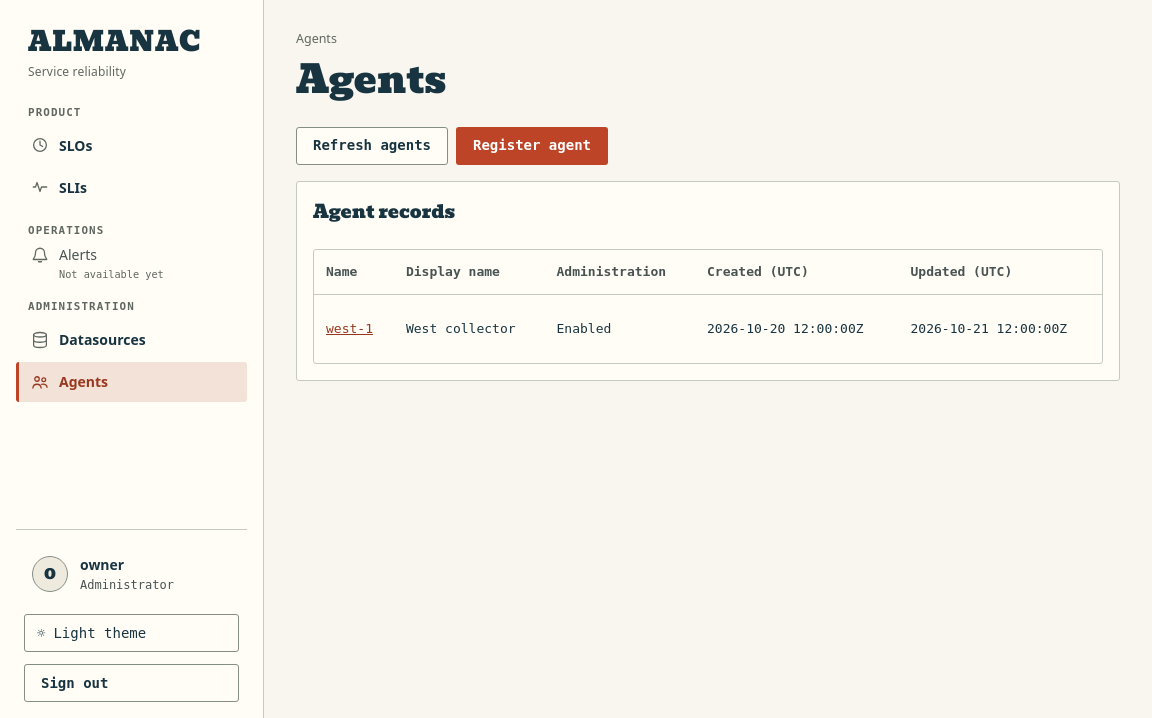
it: agent administration screen › never enables deletion when datasource checks fail
The width and height of the screenshot is (1152, 718).
Click the button "west-1" at coordinates (350, 329), box [326, 307, 373, 351]
(page scrolled)
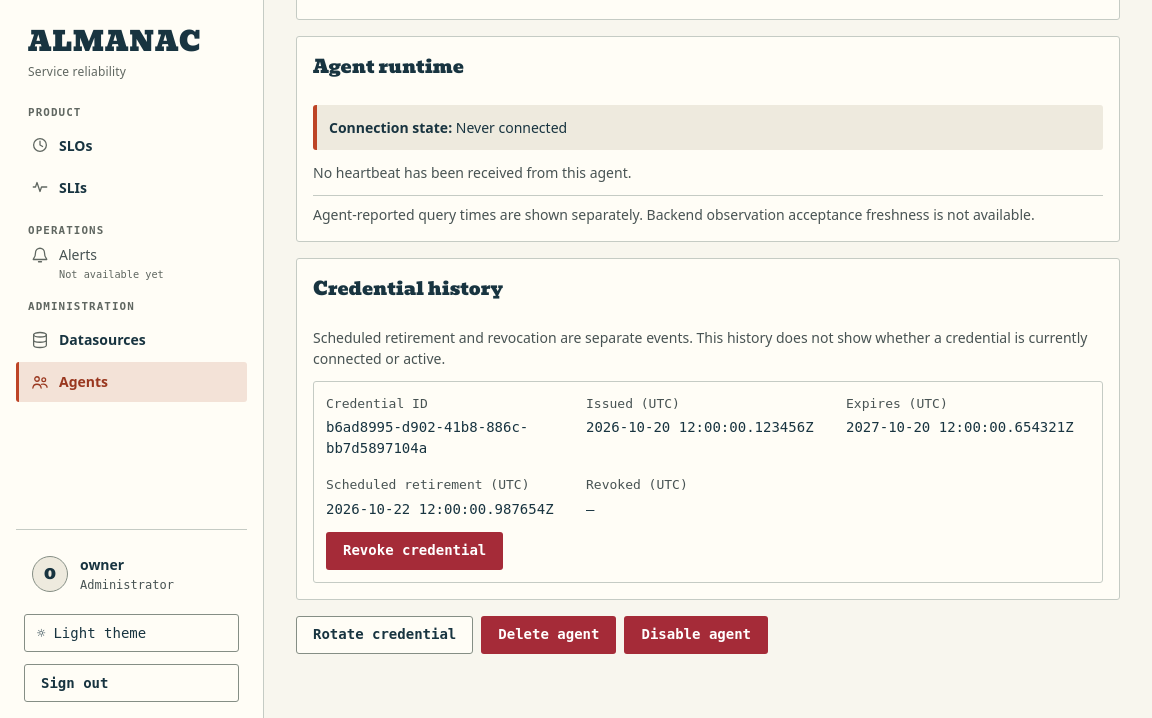
Click the button "Delete agent" at coordinates (549, 635), box [481, 616, 616, 654]
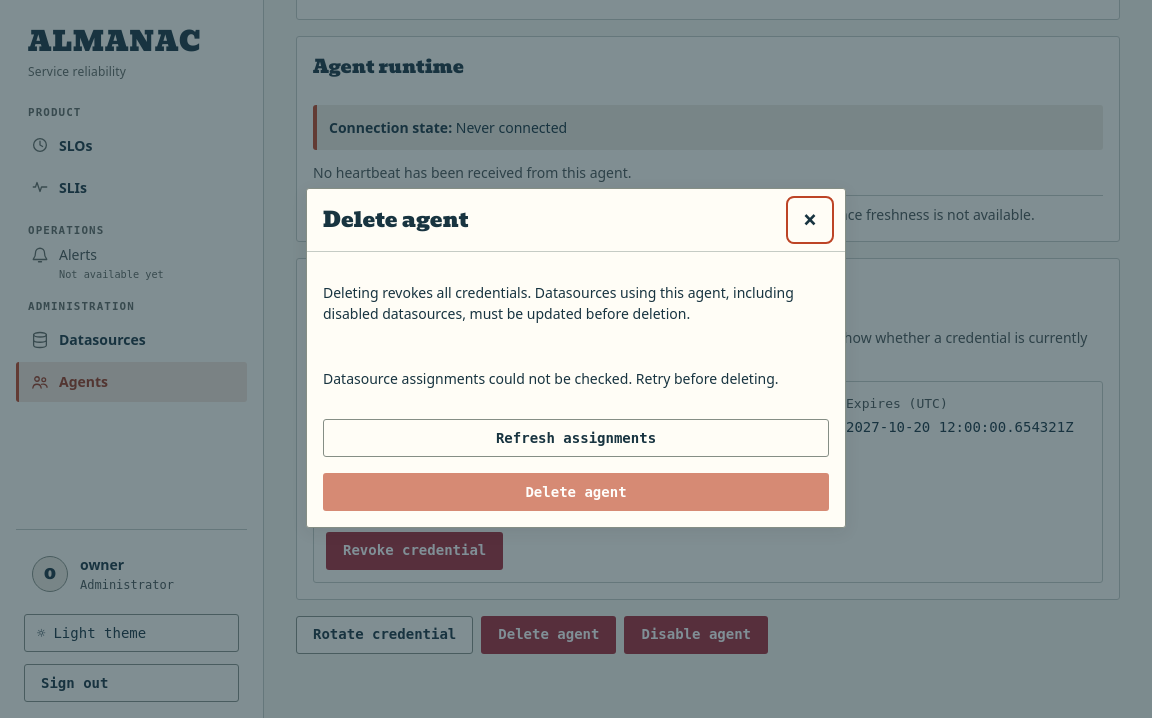
Now the message shows "could not be checked", box [323, 369, 778, 388]
Now the button "Delete agent" is disabled, box [323, 473, 829, 511]
